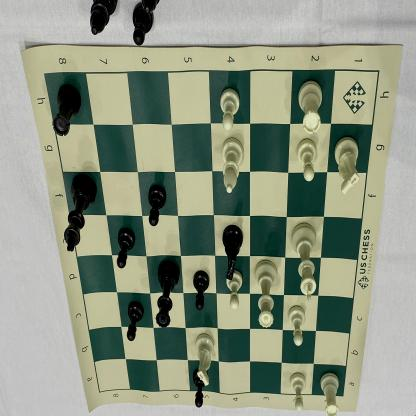black-king: (63, 172, 101, 257)
black-knight: (220, 224, 246, 281)
black-pawn: (144, 184, 168, 230), (116, 224, 138, 272), (124, 300, 148, 344), (192, 268, 212, 312), (190, 368, 209, 410)
black-queen: (154, 258, 181, 331)
black-rook: (52, 83, 84, 140)
white-bishop: (220, 136, 248, 198)
white-king: (288, 222, 320, 304)
white-knight: (334, 136, 365, 198), (192, 333, 220, 387)
white-pawn: (218, 86, 243, 134), (295, 136, 319, 183), (288, 370, 310, 416), (223, 268, 246, 312), (287, 301, 307, 348)
white-queen: (252, 260, 280, 330)
white-rook: (296, 78, 325, 135), (318, 371, 344, 416)
